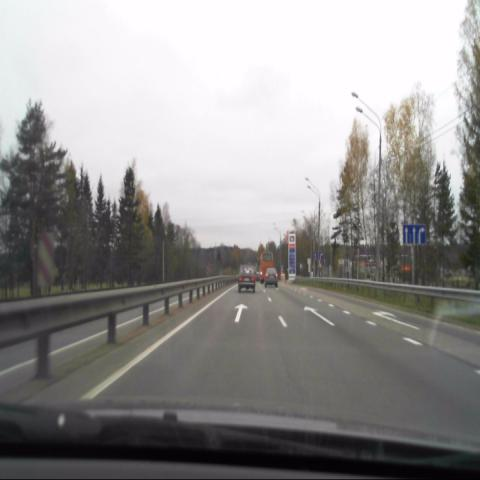5_15_1: (403, 224, 426, 245)
